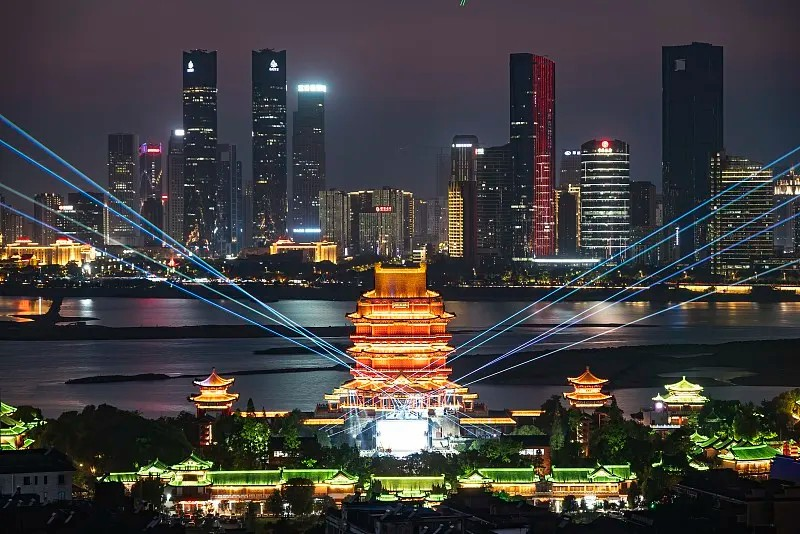Teng: (325, 262, 477, 414)
